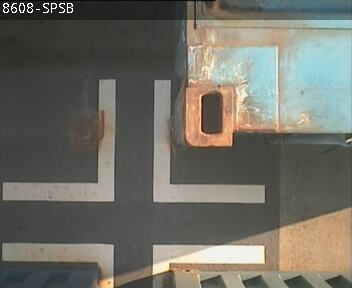groundmarker_1: (2, 80, 265, 201)
